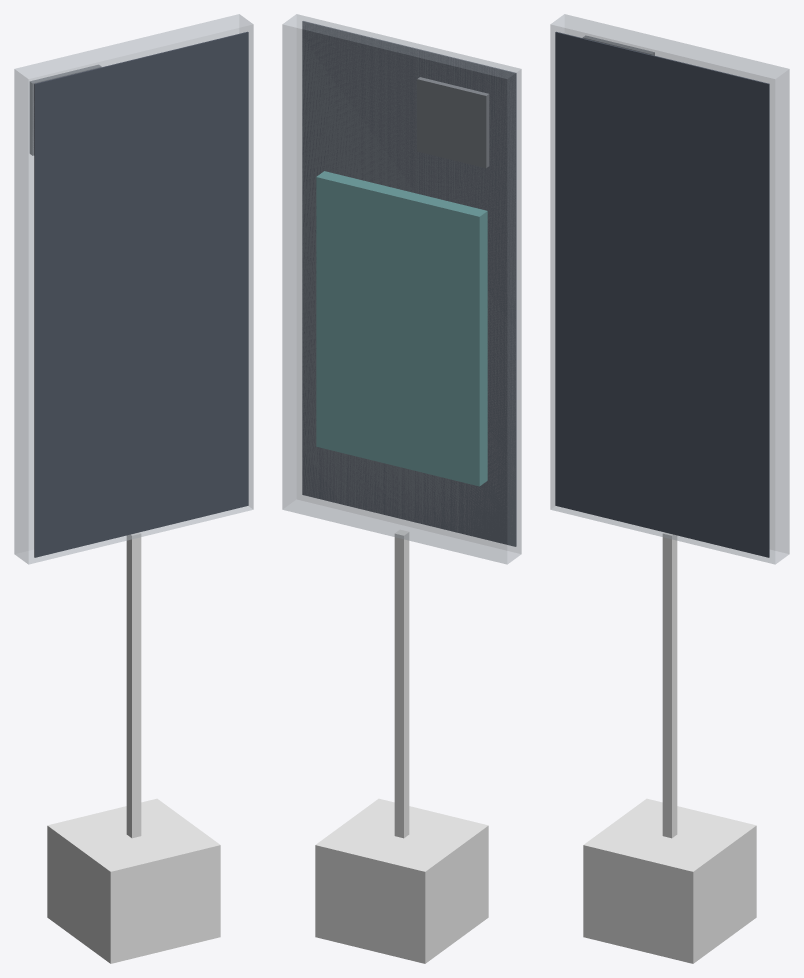
File: modelo_3d.glb
3 views of the same model, side by side, from view 1: azimuth 30°, elevation 25°; view 2: azimuth 150°, elevation 25°; view 3: azimuth 330°, elevation 25° (orthographic).
Visible parts, largest first — view 1: PHONE1, CHARGER1; view 2: PHONE1, BAT1, CHARGER1; view 3: PHONE1, CHARGER1.
Part boxes in pixels (x1,y1,x2,y2): PHONE1: (14,14,253,564); CHARGER1: (47,532,220,963); PHONE1: (282,14,521,564); BAT1: (316,171,487,486); CHARGER1: (315,529,488,963); PHONE1: (550,14,789,564); CHARGER1: (583,532,756,963).
Bounding box in the file's own units: 0.0716 × 0.2678 × 0.035.
